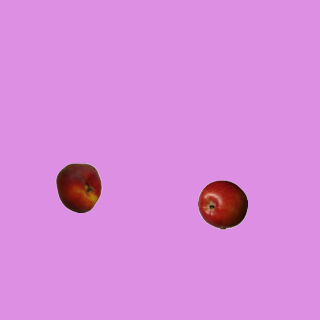Apple Braeburn: (197, 179, 247, 229)
Nectarine Flat: (53, 162, 103, 212)
